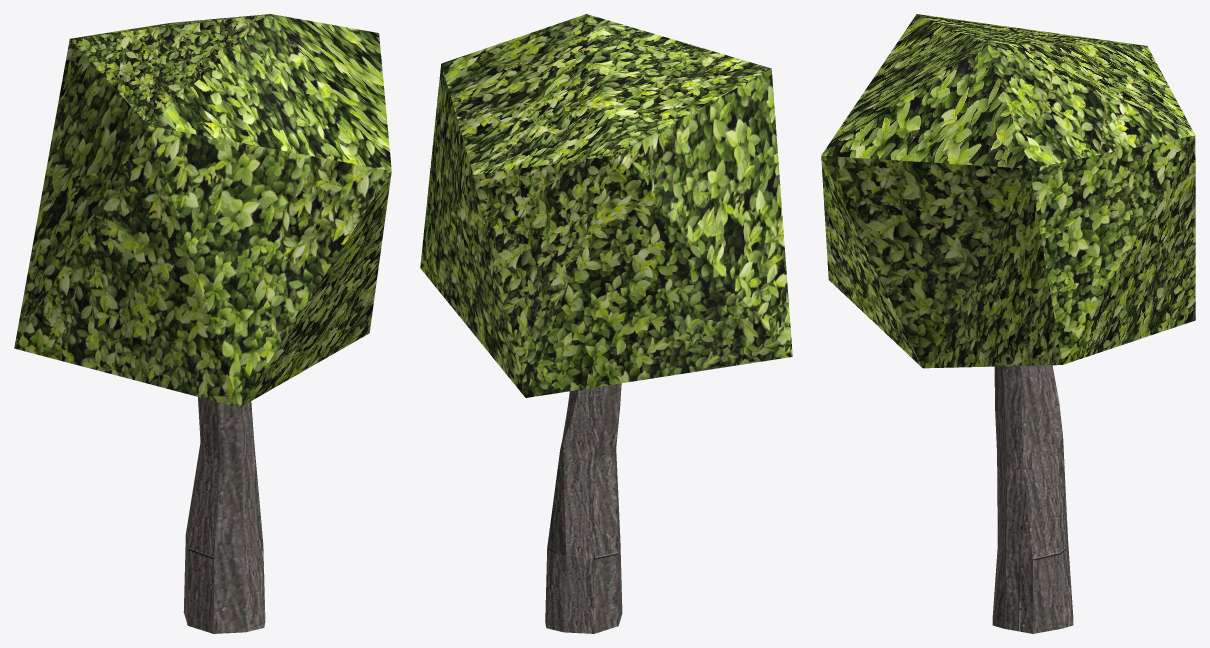
Rendered from tree01.fbx.
3 renders of one model, left to right at view 1: azimuth 30°, elevation 25°; view 2: azimuth 150°, elevation 25°; view 3: azimuth 270°, elevation 25°, orthographic. The views are drawn at different scales.
Visible parts, largest first — view 1: Cube.002; view 2: Cube.002; view 3: Cube.002.
Part boxes in pixels (x1,y1,x2,y2): Cube.002: (14,14,391,633); Cube.002: (420,14,792,633); Cube.002: (821,14,1195,633).
Size of the model in its own units: 1013 by 1596 by 930.
